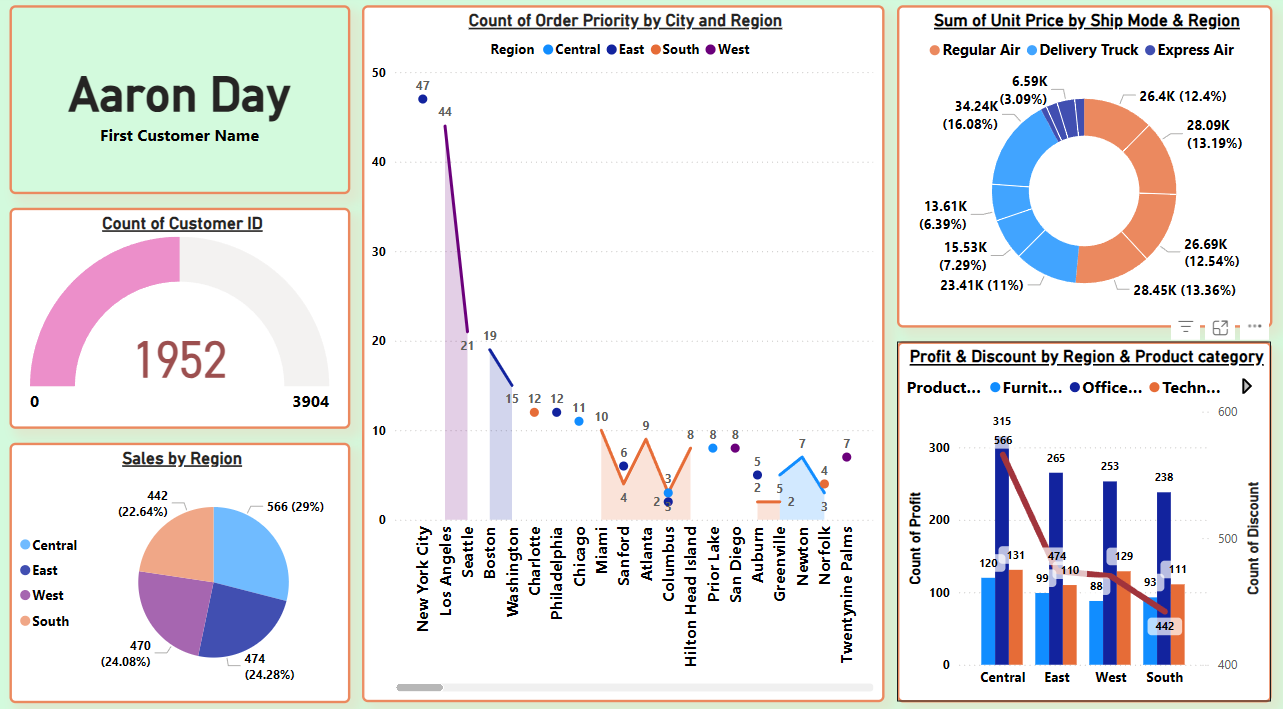

Layout of this report page (visuals, bound fields, positions):
{"tool":"powerbi","page":{"name":"Page 1","canvas":[1280,720],"ordinal":0},"visuals":[{"type":"lineChart","fields":{"Category":["Table 1 (Orders).City"],"Y":["Table 1 (Orders).Order Priority"],"Series":["Table 1 (Orders).Region"]},"box":[363.6,10.6,519.7,693.9],"z":0},{"type":"card","fields":{"Values":["Table 1 (Orders).Customer Name"]},"box":[12.1,10.6,339.4,187.9],"z":1000},{"type":"donutChart","title":"Sum of Unit Price by Ship Mode & Region","fields":{"Category":["Table 1 (Orders).Ship Mode"],"Y":["Table 1 (Orders).Unit Price"],"Series":["Table 1 (Orders).Region"]},"box":[896.1,11,373.2,321.1],"z":2000},{"type":"gauge","fields":{"Y":["Table 1 (Orders).Customer ID"]},"box":[12.1,212.1,339.4,219.7],"z":3000},{"type":"pieChart","title":"Sales by Region","fields":{"Category":["Table 1 (Orders).Region"],"Y":["Table 1 (Orders).Sales"]},"box":[12.3,446,338.9,259.3],"z":4000},{"type":"lineClusteredColumnComboChart","title":"Profit & Discount by Region & Product category","fields":{"Category":["Table 1 (Orders).Region"],"Y":["Table 1 (Orders).Profit"],"Y2":["Table 1 (Orders).Discount"],"Series":["Table 1 (Orders).Product Category"]},"box":[895.5,345.5,372.7,359.1],"z":5000}]}

Visuals, with their boxes in screenshot pixels (x1, y1, x2, y2), scaled from the page's 1280x720 canvas onto the 1283x709 screenshot:
lineChart - Table 1 (Orders).City x Table 1 (Orders).Order Priority: 364:10:885:694
card - Table 1 (Orders).Customer Name: 12:10:352:195
"Sum of Unit Price by Ship Mode & Region" donutChart: 898:11:1272:327
gauge - Table 1 (Orders).Customer ID: 12:209:352:425
"Sales by Region" pieChart: 12:439:352:695
"Profit & Discount by Region & Product category" lineClusteredColumnComboChart: 898:340:1271:694
